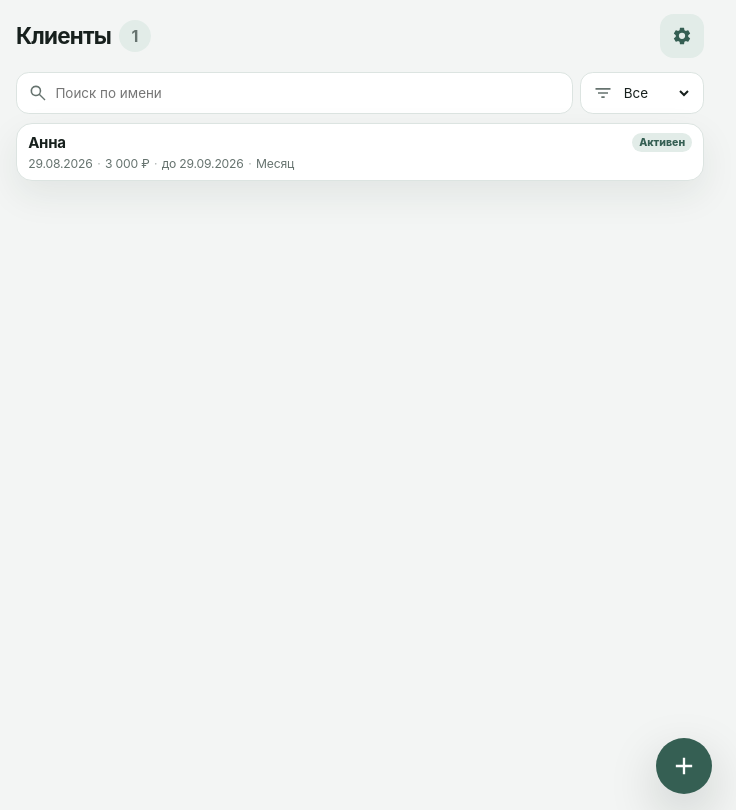
App › открывает клиента и продлевает абонемент новой оплатой
The image size is (736, 810).
Step 1. Click the button "Анна Активен 29.08.2026 · 3 000 ₽ · до 29.09.2026 · Месяц" → (47, 142), box x1=16 y1=123 x2=704 y2=181
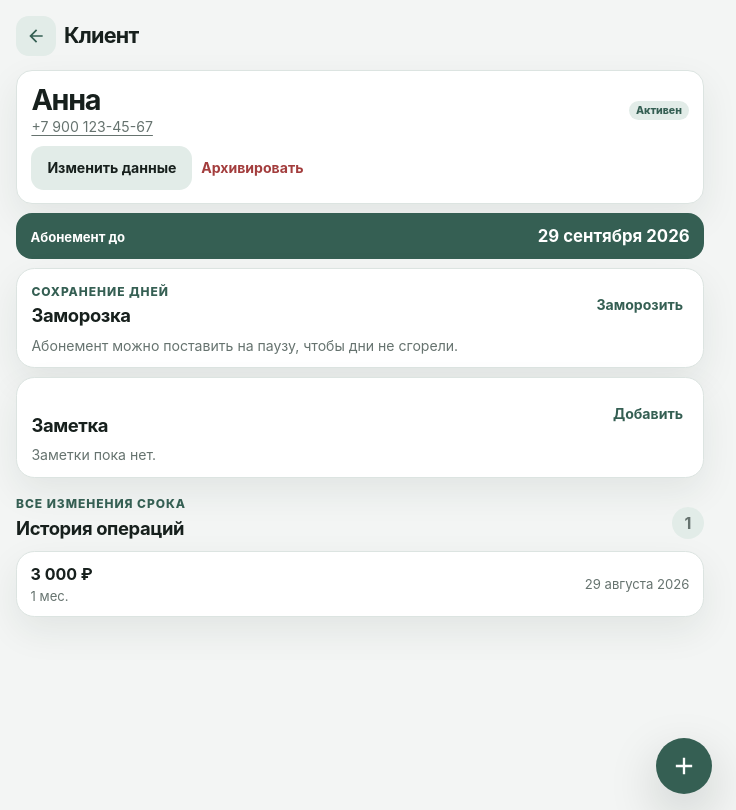
Result: the heading "История операций" is shown at x1=16 y1=516 x2=186 y2=538
Step 2. Click the button named "Новая оплата" → (684, 766), box x1=656 y1=738 x2=712 y2=794
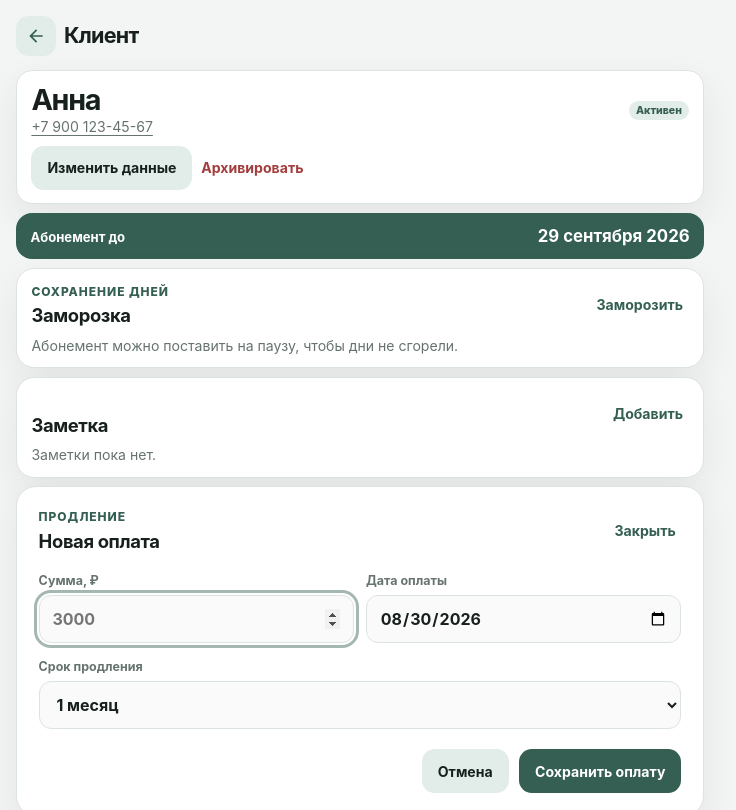
Step 3. Type "3500" into the number field labelled "Сумма, ₽" → (196, 619), box x1=39 y1=595 x2=354 y2=643
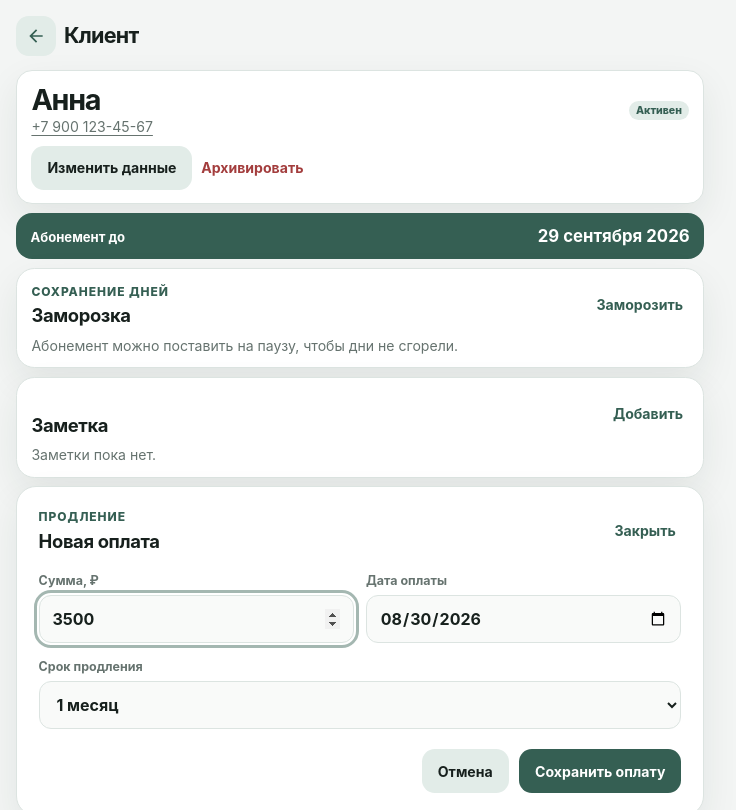
Step 4. Type "2026-09-20" into the date field labelled "Дата оплаты" → (524, 619), box x1=366 y1=595 x2=681 y2=643
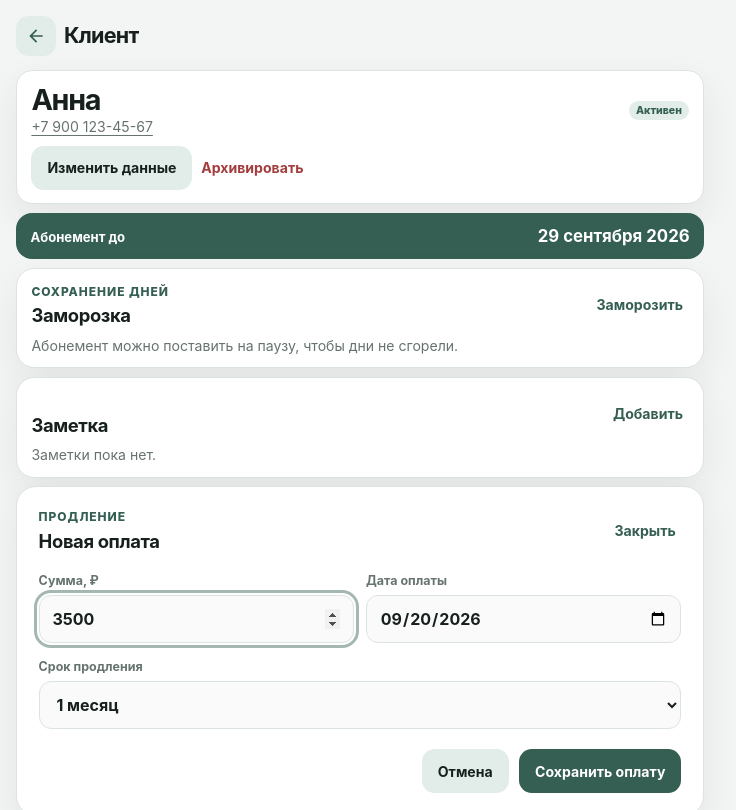
Step 5. Click the button "Сохранить оплату" → (600, 771), box x1=519 y1=749 x2=681 y2=793
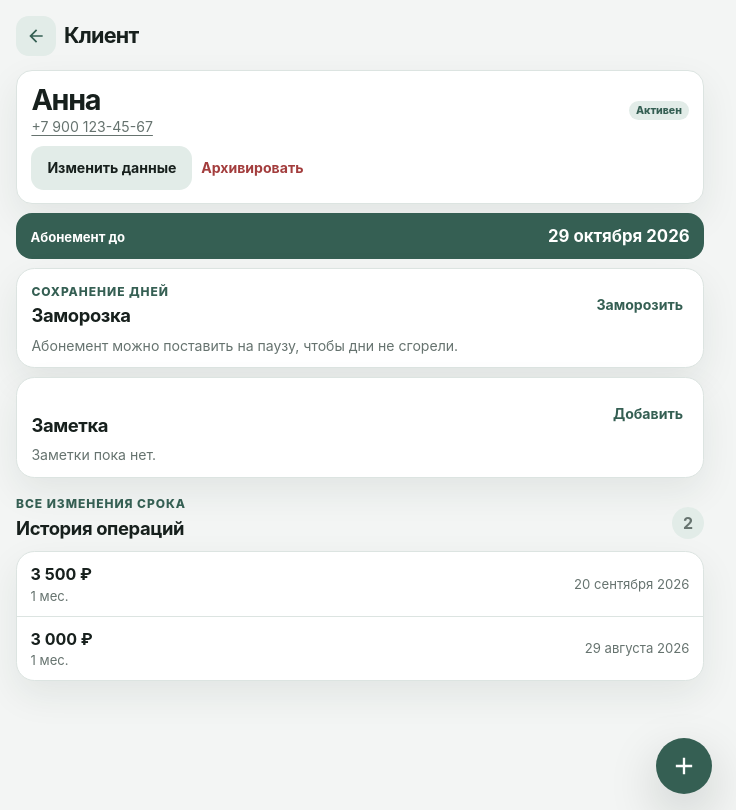
Result: the text "29 октября 2026" is shown at x1=548 y1=226 x2=690 y2=246
Result: the text "3 500 ₽" is shown at x1=31 y1=564 x2=92 y2=584
Result: the text "2" is shown at x1=672 y1=506 x2=704 y2=538
